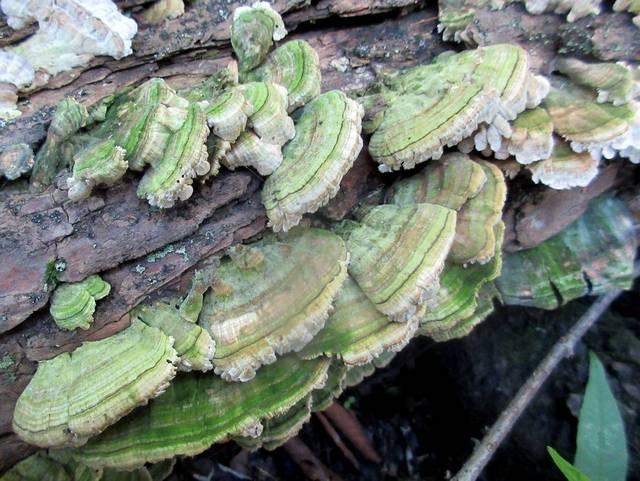poisonous_mushroom: (14, 8, 553, 450), (259, 88, 365, 232)
